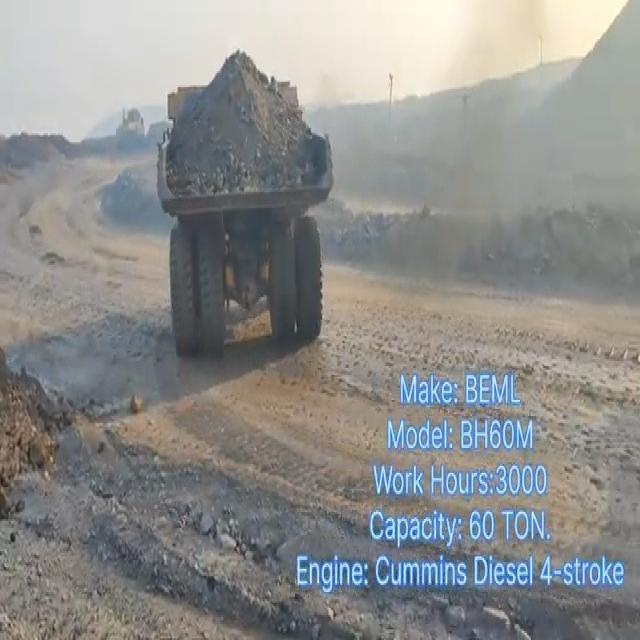dump_truck: (156, 51, 336, 347)
